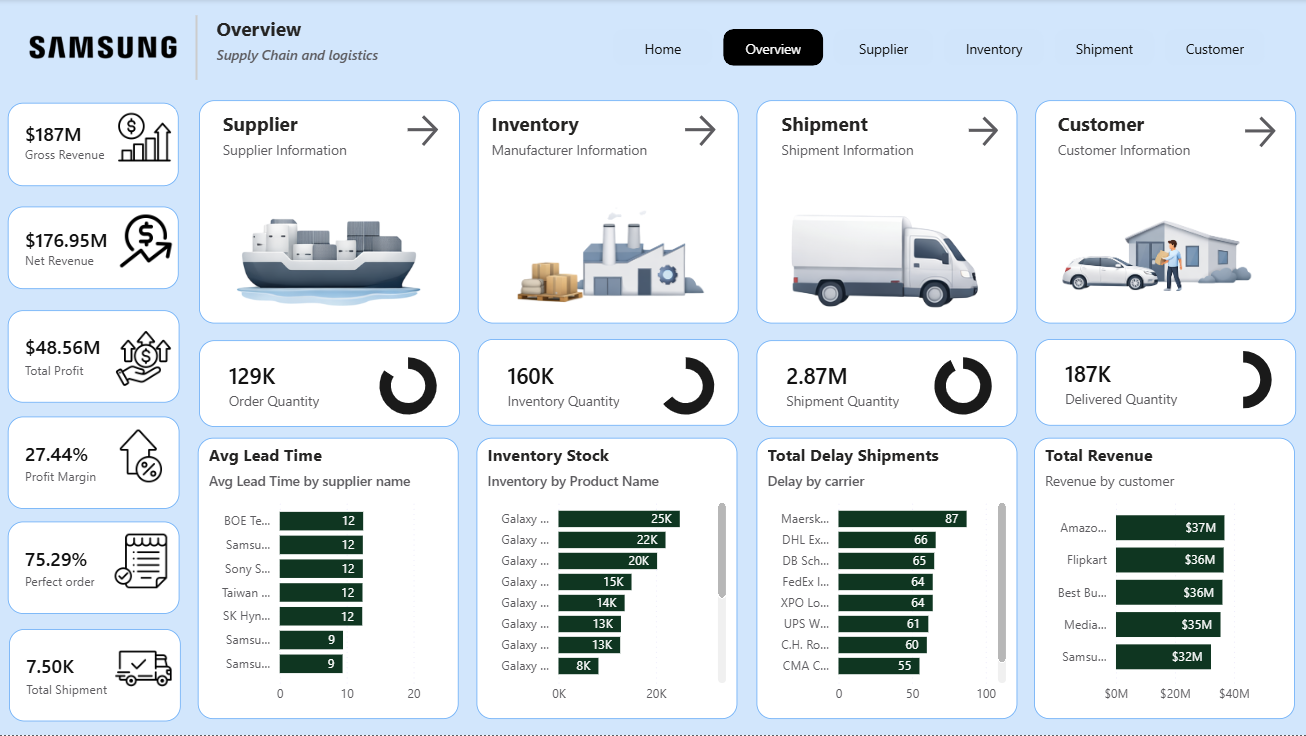

What the dashboard file says about the page in this screenshot:
{"tool":"powerbi","page":{"name":"Overview","canvas":[1280,720],"ordinal":1},"visuals":[{"type":"textbox","title":"Overview","box":[207.9,15.9,220.1,80],"z":0},{"type":"shape","box":[196.2,98.8,255,218.8],"z":0,"group":"g3"},{"type":"shape","box":[178.5,15.9,29.3,63.6],"z":1000},{"type":"shape","box":[741,98.5,255,218.6],"z":1000,"group":"g5"},{"type":"image","box":[18.8,23.8,160,47.5],"z":2000},{"type":"shape","box":[1013.4,98.5,255,218.6],"z":2000,"group":"g6"},{"type":"shape","box":[468.6,98.8,255,218.8],"z":3000,"group":"g4"},{"type":"cardVisual","fields":{"Data":["MeasuresTable.Total_Profit"]},"box":[9.1,305,168,90],"z":3000},{"type":"image","box":[213.3,177.1,210,140],"z":4000,"group":"g3"},{"type":"cardVisual","fields":{"Data":["MeasuresTable.Profit_Margin %"]},"box":[9.1,409,168,90],"z":4000},{"type":"image","box":[486.6,177.5,210,140],"z":5000,"group":"g4"},{"type":"cardVisual","fields":{"Data":["MeasuresTable.Perfect order %"]},"box":[9.1,511.7,168,90],"z":5000},{"type":"image","box":[758.7,177.5,210,140],"z":6000,"group":"g5"},{"type":"cardVisual","fields":{"Data":["MeasuresTable.Total_Shipment"]},"box":[10.4,615.7,168,90],"z":6000},{"type":"image","box":[1031.7,177.5,210,140],"z":7000,"group":"g6"},{"type":"clusteredBarChart","title":"Avg Lead Time","fields":{"Category":["Dim_supplier.supplier_name"],"Y":["MeasuresTable.Average_Lead_Time"]},"box":[195,428.8,255,275],"z":7000},{"type":"actionButton","box":[394.2,109.1,47.1,40],"z":8000,"group":"g3"},{"type":"clusteredBarChart","title":"Inventory Stock","fields":{"Y":["MeasuresTable.Inventory_Value"],"Category":["Dim_product.product_name"]},"box":[467.5,428.8,255,275],"z":8000},{"type":"actionButton","box":[665,108.8,48.8,40],"z":9000,"group":"g4"},{"type":"clusteredBarChart","title":"Total Delay Shipments","fields":{"Category":["Fact_shipment.carrier"],"Y":["MeasuresTable.Total_Delay"]},"box":[741.2,428.8,255,275],"z":9000},{"type":"actionButton","box":[942.5,110,43.8,38.8],"z":10000,"group":"g5"},{"type":"clusteredBarChart","title":"Total Revenue","fields":{"Y":["MeasuresTable.Total_Revenue"],"Category":["Dim_customer.customer_name"]},"box":[1012.5,428.8,255,275],"z":10000},{"type":"actionButton","box":[1212.8,110,46,40],"z":11000,"group":"g6"},{"type":"image","box":[111.2,323.8,60,55],"z":11000},{"type":"textbox","title":"Supplier","box":[214.6,108.1,178.8,82.5],"z":12000,"group":"g3"},{"type":"image","box":[108.8,420,60,55],"z":12000},{"type":"textbox","title":"Inventory","box":[477.6,108.5,179,82],"z":13000,"group":"g4"},{"type":"image","box":[108.8,522.5,60,55],"z":13000},{"type":"textbox","title":"Shipment","box":[760.7,108.5,164,80],"z":14000,"group":"g5"},{"type":"image","box":[111.2,627.5,60,55],"z":14000},{"type":"group","id":"g1","title":"Group 1","box":[8.9,101.1,167.2,81.7],"z":15000},{"type":"textbox","title":"Customer","box":[1030.7,108.5,160,80],"z":15000,"group":"g6"},{"type":"group","id":"g2","title":"Group 2","box":[8.8,202.5,167.5,81],"z":16000},{"type":"group","id":"g3","title":"Group 3","box":[196.2,98.8,255,218.8],"z":17000},{"type":"group","id":"g4","title":"Group 4","box":[468.6,98.8,255,218.8],"z":18000},{"type":"group","id":"g5","title":"Group 5","box":[741,98.5,255,219],"z":19000},{"type":"cardVisual","fields":{"Data":["MeasuresTable.Total_Revenue"]},"box":[8.8,202.5,167.5,81],"z":19000,"group":"g2"},{"type":"group","id":"g6","title":"Group 6","box":[1013.4,98.5,255,219],"z":20000},{"type":"group","id":"g7","title":"Group 7","box":[195.2,333.5,256.1,85.3],"z":21000},{"type":"group","id":"g8","title":"Group 9","box":[468.9,332.2,527.5,86.5],"z":22000},{"type":"group","id":"g9","title":"Group 10","box":[1013.9,332.2,255,85],"z":23000},{"type":"shape","box":[195.2,333.5,255,85],"z":23000,"group":"g7"},{"type":"pageNavigator","box":[600.7,28.9,641.4,36.8],"z":24000},{"type":"cardVisual","fields":{"Data":["Sum(Fact_sales.gross_revenue)"]},"box":[8.9,101.1,167.2,81.7],"z":24000,"group":"g1"},{"type":"shape","box":[468.9,332.2,255,85],"z":24000,"group":"g10"},{"type":"shape","box":[741.4,333.4,255,85],"z":25000,"group":"g8"},{"type":"shape","box":[1013.9,332.2,255,85],"z":26000,"group":"g9"},{"type":"cardVisual","fields":{"Data":["MeasuresTable.Order_QTY"]},"box":[195.2,337.3,152.5,80],"z":27000,"group":"g7"},{"type":"cardVisual","fields":{"Data":["MeasuresTable.Inventory_Value"]},"box":[468.9,337.2,170,80],"z":28000,"group":"g10"},{"type":"cardVisual","fields":{"Data":["MeasuresTable.Total_Shipment_Quantity"]},"box":[741.4,337.2,170,80],"z":29000,"group":"g8"},{"type":"cardVisual","fields":{"Data":["MeasuresTable.Total_delivered_Quantity"]},"box":[1013.9,334.7,170,80],"z":30000,"group":"g9"},{"type":"donutChart","fields":{"Y":["MeasuresTable.Order_QTY","MeasuresTable.Defect_Rate"]},"box":[347.5,338.8,103.8,80],"z":35000,"group":"g7"},{"type":"donutChart","fields":{"Y":["MeasuresTable.Inventory_Value","MeasuresTable.Safety stock"]},"box":[620,338.7,103.8,80],"z":36000,"group":"g10"},{"type":"donutChart","fields":{"Y":["MeasuresTable.Total_Shipment","MeasuresTable.Total_Delay"]},"box":[892.5,338.7,103.8,80],"z":37000,"group":"g8"},{"type":"donutChart","fields":{"Y":["MeasuresTable.Total_delivered_Quantity","MeasuresTable.Total Delay Quantity"]},"box":[1165,332.5,103.8,80],"z":38000,"group":"g9"},{"type":"image","box":[113.1,107.5,60,55],"z":41000,"group":"g1"},{"type":"image","box":[113.8,208.7,60,55],"z":43000,"group":"g2"},{"type":"group","id":"g10","title":"Group 8","box":[468.9,332.2,255,86.5],"z":44006,"group":"g8"}]}

Visuals, with their boxes in screenshot pixels (x1, y1, x2, y2), scaled from the page's 1280x720 canvas onto the 1306x736 screenshot:
"Overview" textbox: <region>212, 16, 437, 98</region>
shape: <region>200, 101, 460, 325</region>
shape: <region>182, 16, 212, 81</region>
shape: <region>756, 101, 1016, 324</region>
image: <region>19, 24, 182, 73</region>
shape: <region>1034, 101, 1294, 324</region>
shape: <region>478, 101, 738, 325</region>
cardVisual - MeasuresTable.Total_Profit: <region>9, 312, 181, 404</region>
image: <region>218, 181, 432, 324</region>
cardVisual - MeasuresTable.Profit_Margin %: <region>9, 418, 181, 510</region>
image: <region>496, 181, 711, 325</region>
cardVisual - MeasuresTable.Perfect order %: <region>9, 523, 181, 615</region>
image: <region>774, 181, 988, 325</region>
cardVisual - MeasuresTable.Total_Shipment: <region>11, 629, 182, 721</region>
image: <region>1053, 181, 1267, 325</region>
"Avg Lead Time" clusteredBarChart: <region>199, 438, 459, 719</region>
actionButton: <region>402, 112, 450, 152</region>
"Inventory Stock" clusteredBarChart: <region>477, 438, 737, 719</region>
actionButton: <region>679, 111, 728, 152</region>
"Total Delay Shipments" clusteredBarChart: <region>756, 438, 1016, 719</region>
actionButton: <region>962, 112, 1006, 152</region>
"Total Revenue" clusteredBarChart: <region>1033, 438, 1293, 719</region>
actionButton: <region>1237, 112, 1284, 153</region>
image: <region>113, 331, 175, 387</region>
"Supplier" textbox: <region>219, 111, 401, 195</region>
image: <region>111, 429, 172, 486</region>
"Inventory" textbox: <region>487, 111, 670, 195</region>
image: <region>111, 534, 172, 590</region>
"Shipment" textbox: <region>776, 111, 943, 193</region>
image: <region>113, 641, 175, 698</region>
"Group 1" group: <region>9, 103, 180, 187</region>
"Customer" textbox: <region>1052, 111, 1215, 193</region>
"Group 2" group: <region>9, 207, 180, 290</region>
"Group 3" group: <region>200, 101, 460, 325</region>
"Group 4" group: <region>478, 101, 738, 325</region>
"Group 5" group: <region>756, 101, 1016, 325</region>
cardVisual - MeasuresTable.Total_Revenue: <region>9, 207, 180, 290</region>
"Group 6" group: <region>1034, 101, 1294, 325</region>
"Group 7" group: <region>199, 341, 460, 428</region>
"Group 9" group: <region>478, 340, 1017, 428</region>
"Group 10" group: <region>1034, 340, 1295, 426</region>
shape: <region>199, 341, 459, 428</region>
pageNavigator: <region>613, 30, 1267, 67</region>
cardVisual - Sum(Fact_sales.gross_revenue): <region>9, 103, 180, 187</region>
shape: <region>478, 340, 739, 426</region>
shape: <region>756, 341, 1017, 428</region>
shape: <region>1034, 340, 1295, 426</region>
cardVisual - MeasuresTable.Order_QTY: <region>199, 345, 355, 427</region>
cardVisual - MeasuresTable.Inventory_Value: <region>478, 345, 652, 426</region>
cardVisual - MeasuresTable.Total_Shipment_Quantity: <region>756, 345, 930, 426</region>
cardVisual - MeasuresTable.Total_delivered_Quantity: <region>1034, 342, 1208, 424</region>
donutChart - MeasuresTable.Order_QTY x MeasuresTable.Defect_Rate: <region>355, 346, 460, 428</region>
donutChart - MeasuresTable.Inventory_Value x MeasuresTable.Safety stock: <region>633, 346, 739, 428</region>
donutChart - MeasuresTable.Total_Shipment x MeasuresTable.Total_Delay: <region>911, 346, 1017, 428</region>
donutChart - MeasuresTable.Total_delivered_Quantity x MeasuresTable.Total Delay Quantity: <region>1189, 340, 1295, 422</region>
image: <region>115, 110, 177, 166</region>
image: <region>116, 213, 177, 270</region>
"Group 8" group: <region>478, 340, 739, 428</region>
